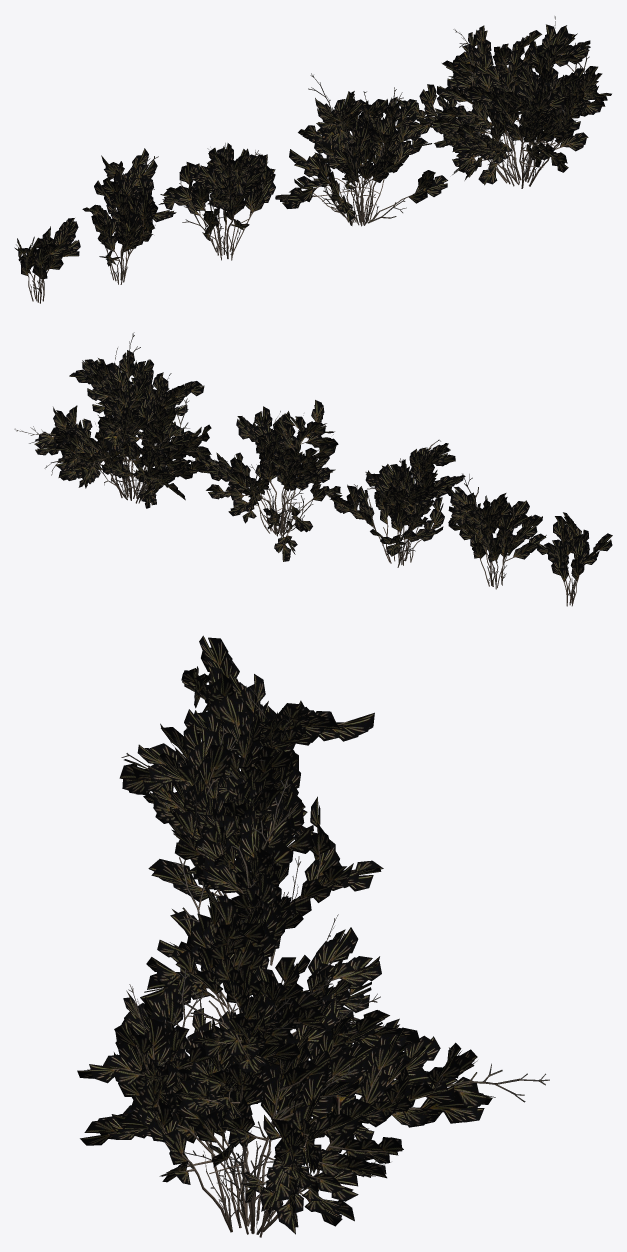
File: wild_rooibos_bush.glb
3 renders of one model, top to bottom at view 1: azimuth 30°, elevation 25°; view 2: azimuth 150°, elevation 25°; view 3: azimuth 270°, elevation 25°, orthographic. The views are drawn at different scales.
Bounding box in the file's own units: 2.28 × 0.5413 × 0.8434.
Materials: 3 (3 with a texture image).
